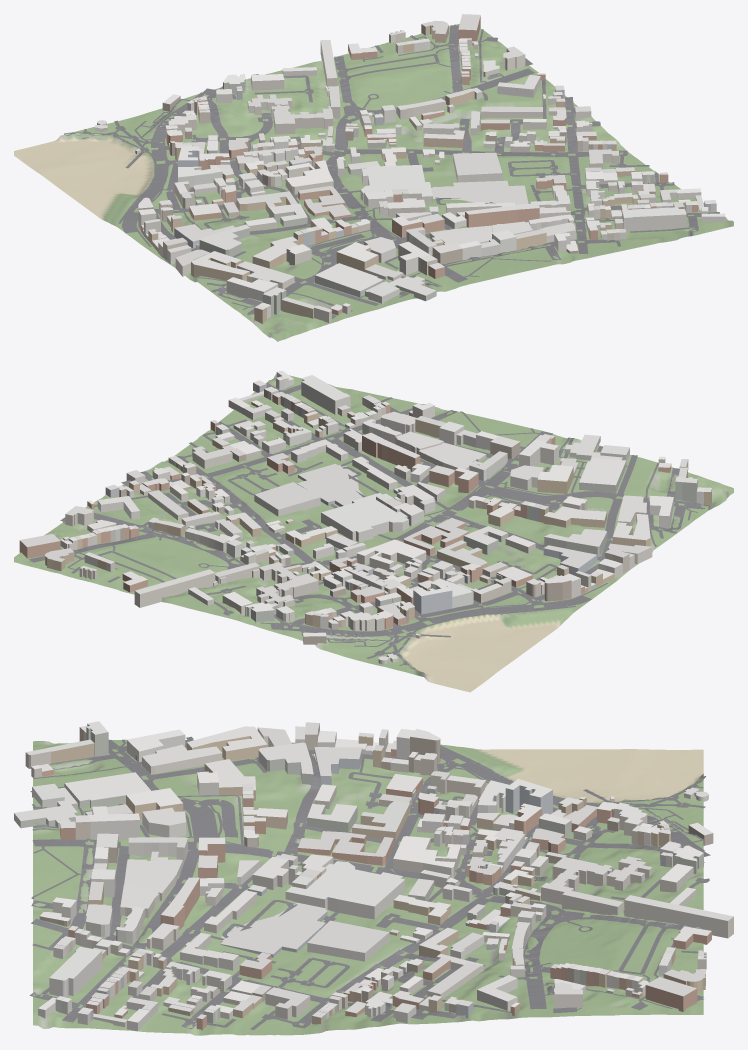
3 views of the same model, one above another, from view 1: azimuth 30°, elevation 25°; view 2: azimuth 150°, elevation 25°; view 3: azimuth 270°, elevation 25° (orthographic). The views are drawn at different scales.
Parts seen in each view (by area): view 1: prim1, prim0, prim2; view 2: prim1, prim0, prim2; view 3: prim1, prim0, prim2.
Boxes of the visible parts, x1,y1,x2,y2 form: prim1: (95,14,725,323); prim0: (14,24,733,341); prim2: (64,24,719,318); prim1: (19,370,711,664); prim0: (14,374,733,692); prim2: (29,383,707,671); prim1: (14,721,733,1031); prim0: (33,739,703,1035); prim2: (29,736,710,1030).
Size of the model in its own units: 528 by 37.24 by 550.
